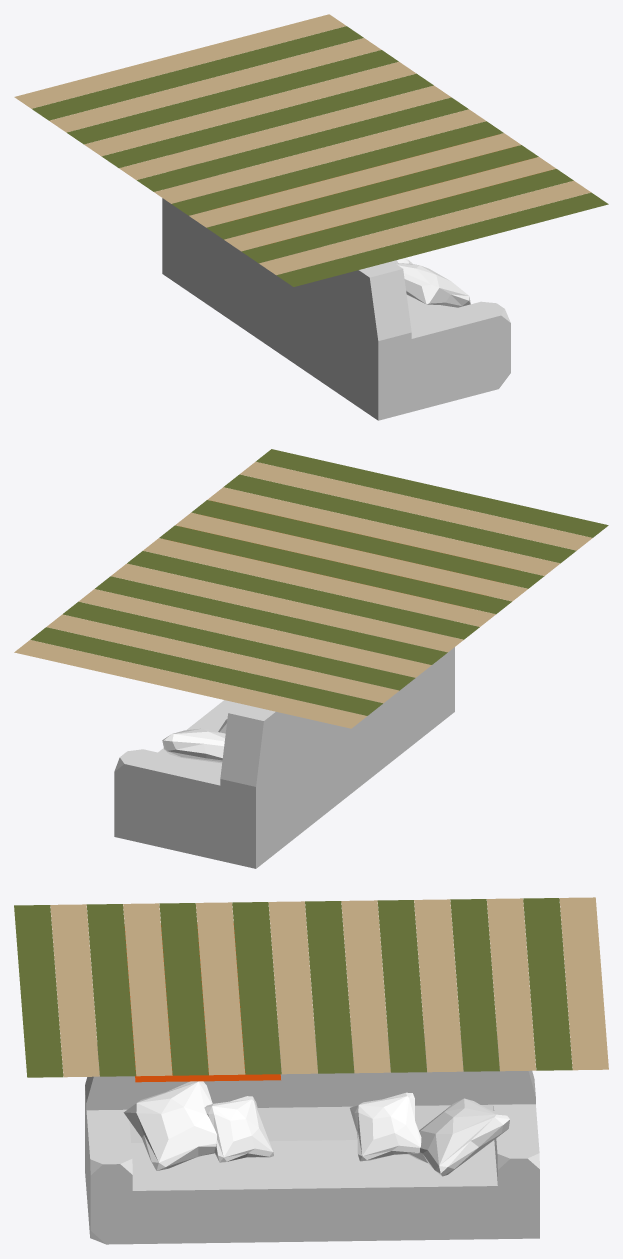
The model's file is orange_sofa_1.glb.
3 renders of one model, top to bottom at view 1: azimuth 30°, elevation 25°; view 2: azimuth 150°, elevation 25°; view 3: azimuth 270°, elevation 25°, orthographic. The views are drawn at different scales.
Parts seen in each view (by area): view 1: Blanket.001, Cube, Cushion; view 2: Blanket.001, Cube, Cushion.002; view 3: Blanket.001, Cube, Cushion, Cushion.002, Cushion.001, Cushion.003, Blanket.002.
Part boxes in pixels (x1,y1,x2,y2): Blanket.001: (14,14,608,286); Cube: (162,198,510,420); Cushion: (395,263,470,307); Blanket.001: (14,449,608,728); Cube: (114,647,454,868); Cushion.002: (162,728,225,763); Blanket.001: (14,897,608,1077); Cube: (85,1017,539,1244); Cushion: (123,1081,216,1170); Cushion.002: (408,1098,509,1176); Cushion.001: (350,1092,421,1161); Cushion.003: (204,1096,273,1162); Blanket.002: (124,923,280,1082).
Bounding box in the file's own units: 4.46 × 2.35 × 6.22.
